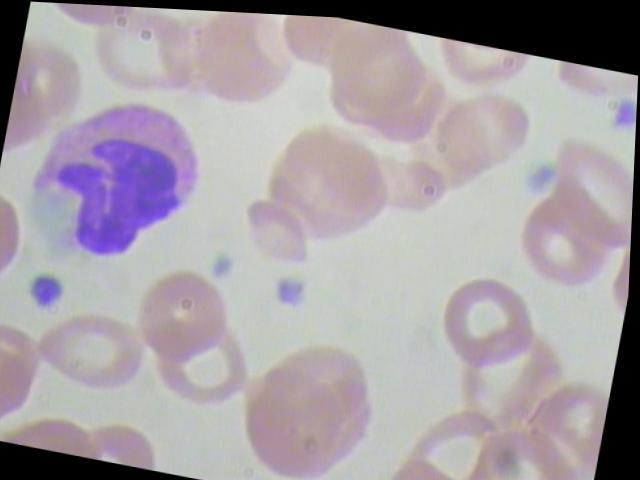Platelets: (14, 263, 71, 321), (263, 261, 315, 312), (513, 152, 559, 195), (603, 88, 637, 132)
Red Blood Cells: (25, 300, 163, 404), (535, 119, 636, 253), (432, 266, 554, 375), (127, 257, 243, 368), (184, 8, 304, 113), (228, 195, 320, 265), (34, 1, 144, 39)
White Blood Cells: (0, 77, 224, 292)
